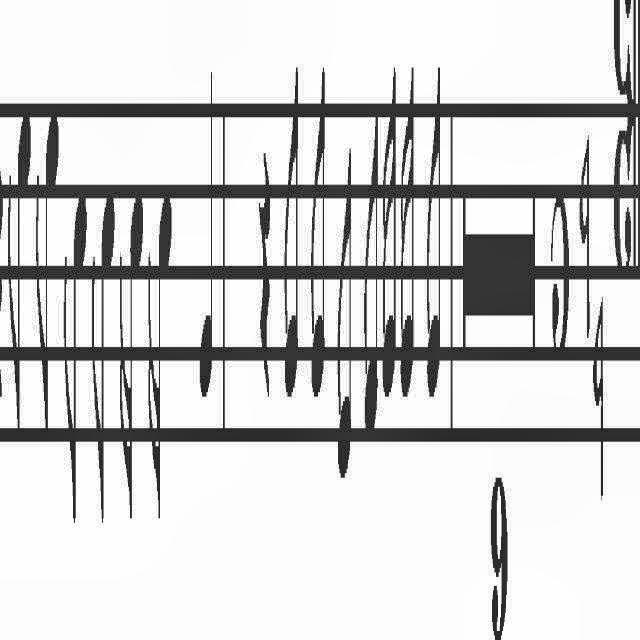Bemol: (592, 278, 608, 502), (580, 109, 590, 359)
Eighth-note: (3, 72, 33, 454), (61, 179, 88, 541), (35, 88, 61, 454), (91, 171, 117, 521), (335, 106, 357, 502), (307, 37, 329, 411), (282, 18, 300, 426), (362, 72, 378, 478), (424, 41, 440, 427)
Quarter-note: (200, 34, 217, 442)
Quarter-rest: (258, 96, 274, 426), (1, 95, 8, 429)
Sixteenth-note: (147, 151, 180, 533), (116, 162, 146, 534), (399, 54, 419, 402), (381, 46, 399, 418)
